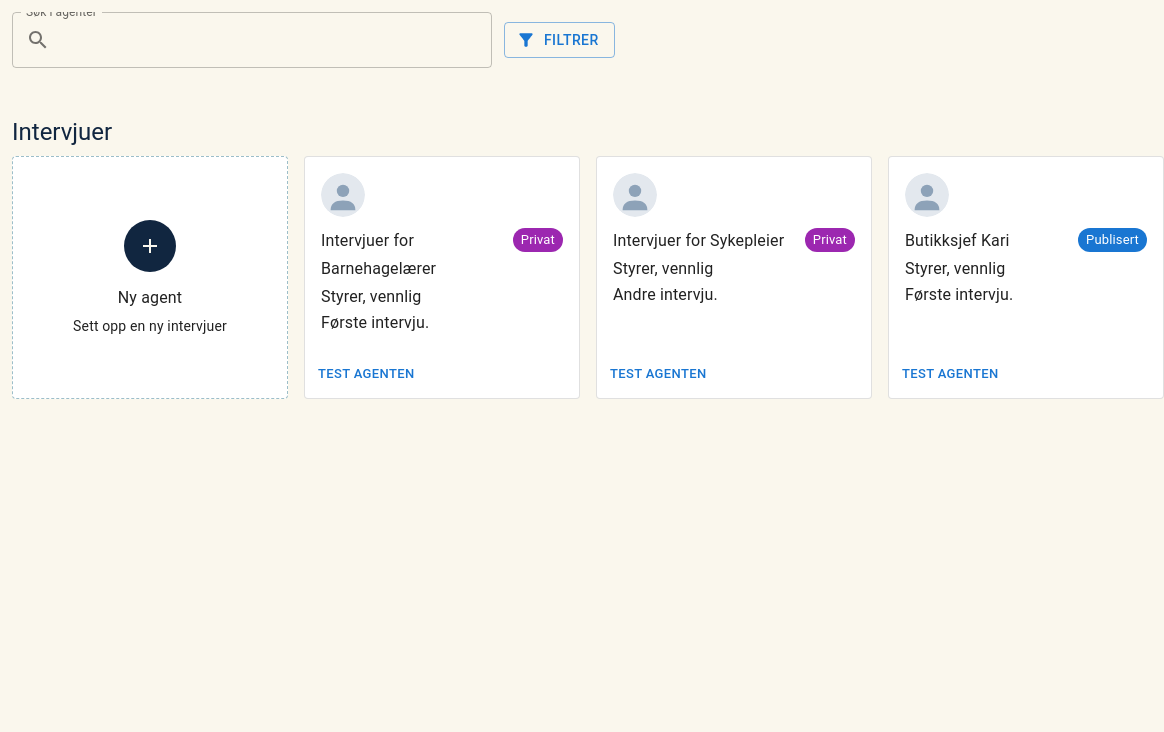
Scenario: AgentList › filters › offers only the industries and difficulties the agents have
Click the button "Filtrer".
click(559, 40)  # box top-left (504, 22), bottom-right (614, 58)
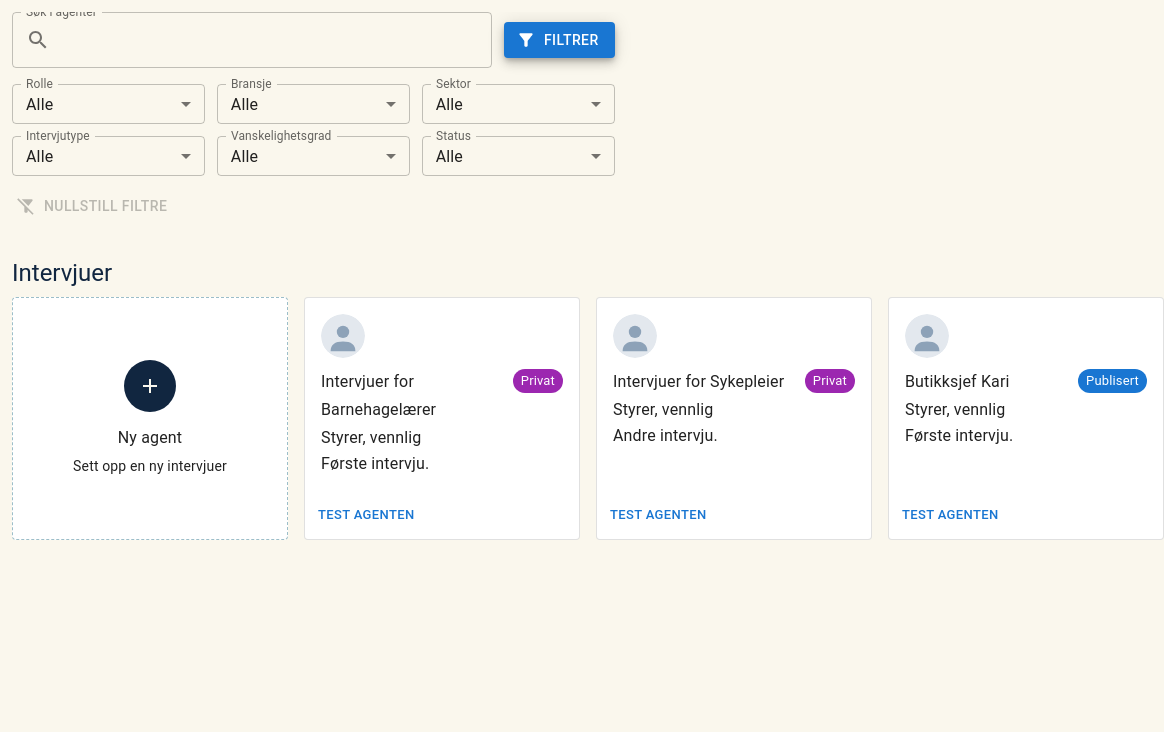
Click the dropdown named "Bransje".
click(244, 104)  # box top-left (231, 94), bottom-right (258, 114)
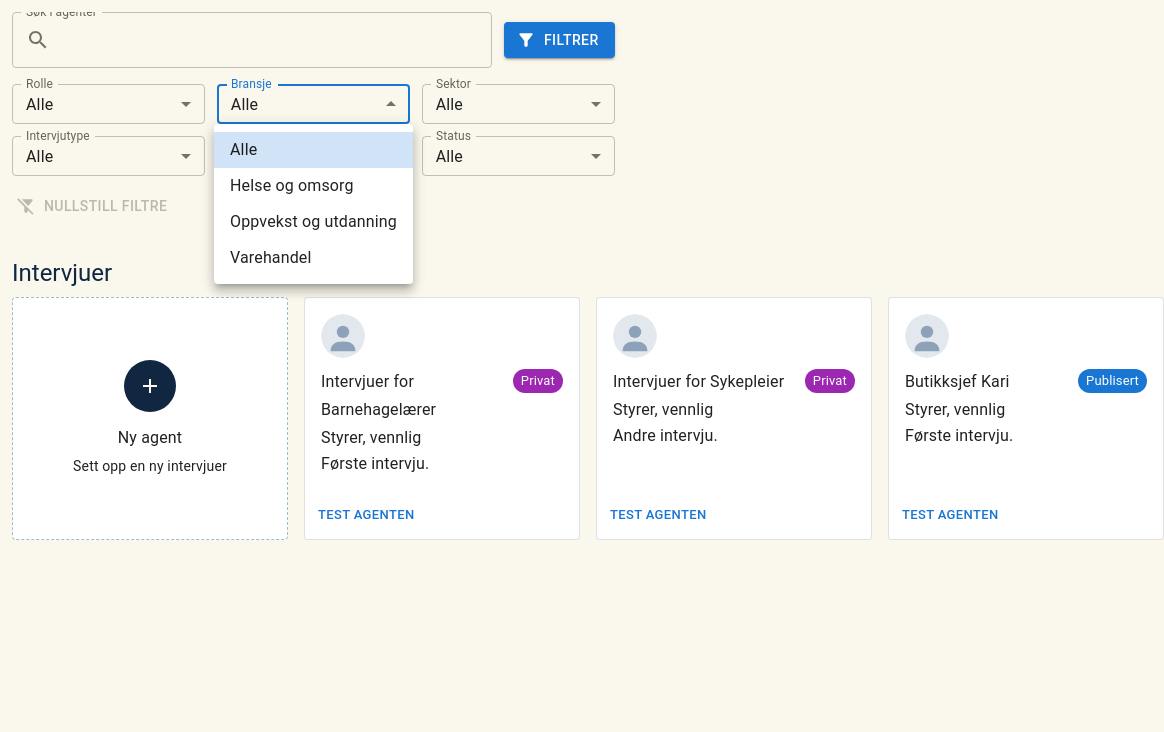
Expected: the options read "Alle", "Helse og omsorg", "Oppvekst og utdanning", "Varehandel", in this order, top-left (214, 132), bottom-right (413, 168); top-left (230, 176), bottom-right (354, 195); top-left (230, 212), bottom-right (397, 231); top-left (230, 248), bottom-right (312, 267)
Press Escape
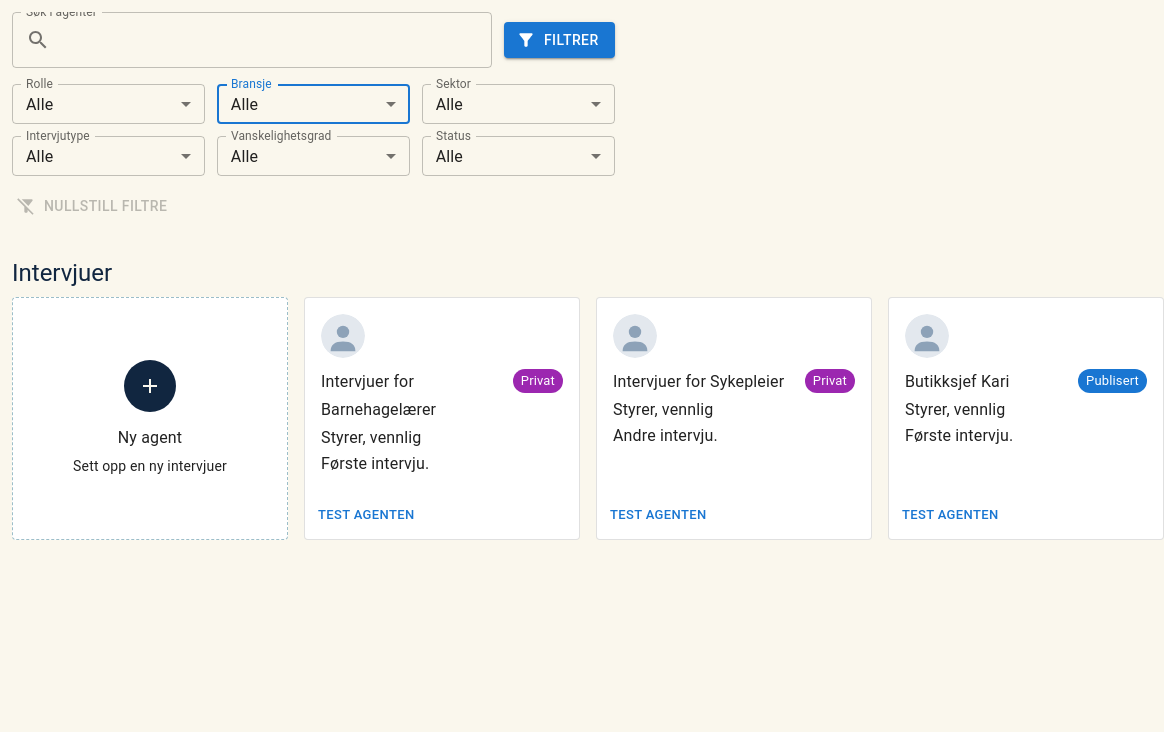
Click the dropdown named "Vanskelighetsgrad".
click(244, 156)  # box top-left (231, 146), bottom-right (258, 166)
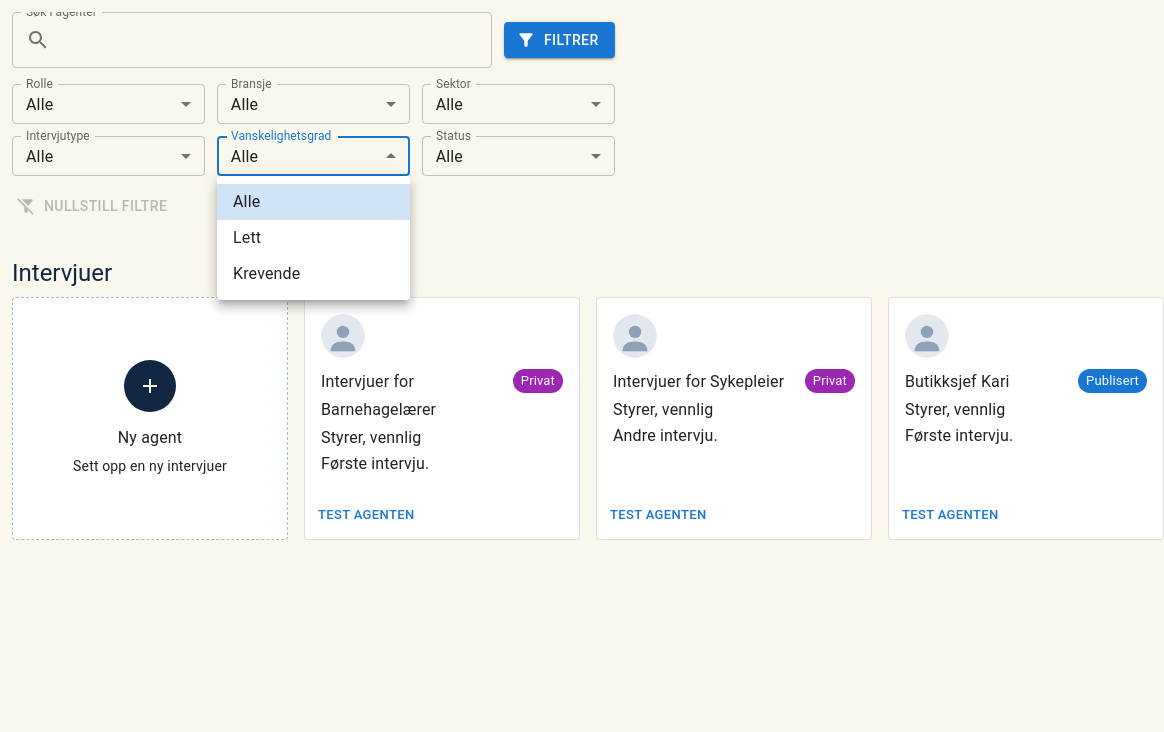
Expected: the options read "Alle", "Lett", "Krevende", in this order, top-left (217, 184), bottom-right (410, 220); top-left (233, 228), bottom-right (261, 247); top-left (233, 264), bottom-right (300, 283)
